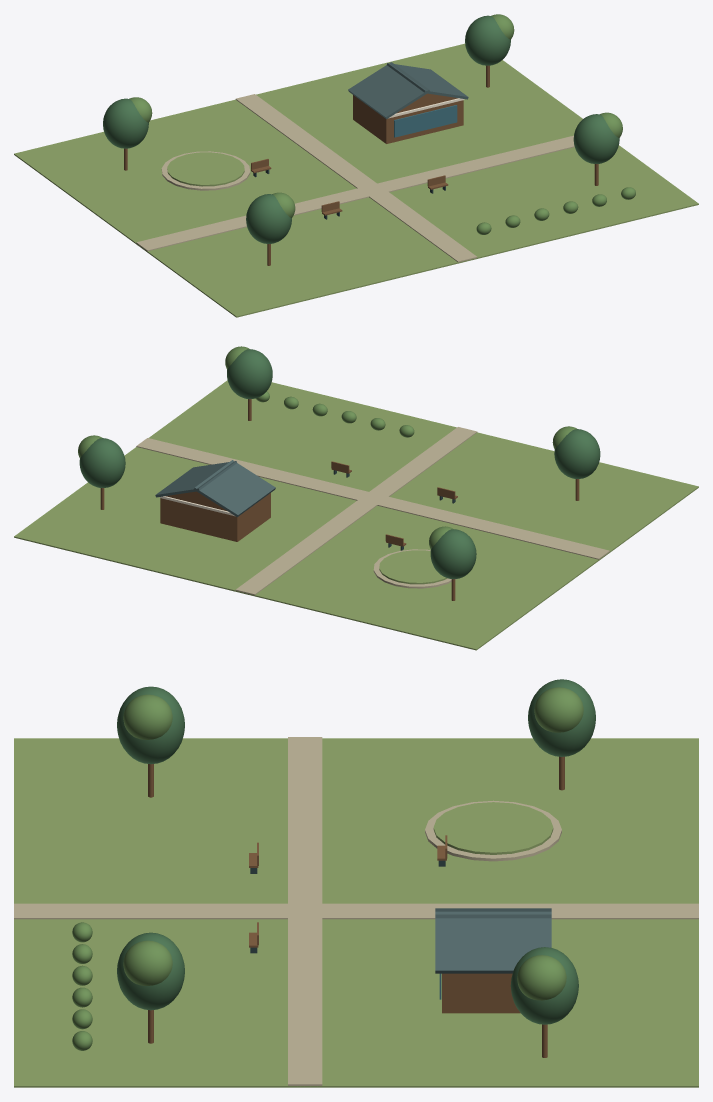
The model's file is public-park.glb.
3 renders of one model, top to bottom at view 1: azimuth 30°, elevation 25°; view 2: azimuth 150°, elevation 25°; view 3: azimuth 270°, elevation 25°, orthographic. The views are drawn at different scales.
Visible parts, largest first — view 1: public-park; view 2: public-park; view 3: public-park.
Part boxes in pixels (<box>): public-park: <box>14,14,698,317</box>; public-park: <box>14,346,698,650</box>; public-park: <box>14,679,698,1087</box>.
Bounding box in the file's own units: 48 × 7 × 40.
